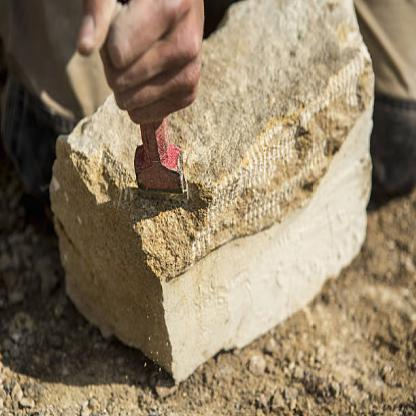Sedimentary_Sandstone: (208, 3, 371, 329), (51, 146, 220, 371)
